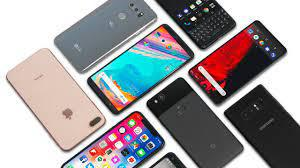Smartphone: (9, 55, 92, 141), (90, 41, 193, 110), (158, 84, 241, 168), (188, 37, 291, 102), (72, 0, 152, 72), (230, 93, 300, 168), (54, 116, 153, 168), (153, 0, 239, 44)
